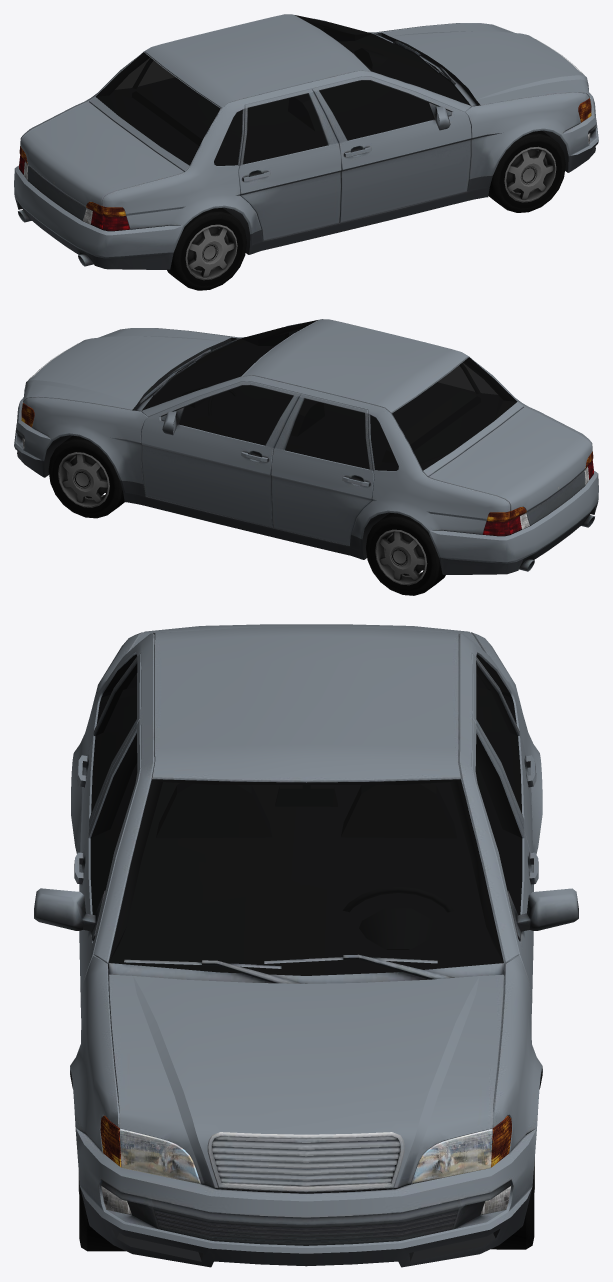
The model's file is sedan_gray.glb.
3 renders of one model, top to bottom at view 1: azimuth 30°, elevation 25°; view 2: azimuth 150°, elevation 25°; view 3: azimuth 270°, elevation 25°, orthographic. The views are drawn at different scales.
Parts seen in each view (by area): view 1: Sedan Body; view 2: Sedan Body; view 3: Sedan Body.
Part boxes in pixels (left/top/right/bottom): Sedan Body: left=14, top=14, right=598, bottom=290; Sedan Body: left=14, top=319, right=598, bottom=595; Sedan Body: left=34, top=624, right=578, bottom=1267.
Bounding box in the file's own units: 4.8 × 1.48 × 2.14.
4 materials, 3 textured.
